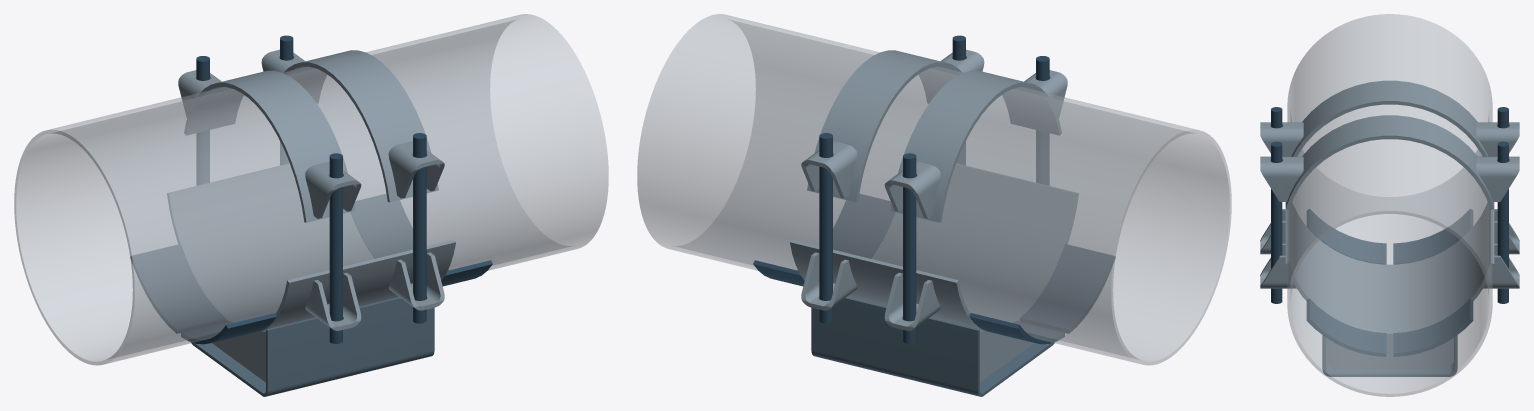
Rendered from TS-671.00.00-03-opora-dn426-H100.glb.
3 views of the same model, side by side, from view 1: azimuth 30°, elevation 25°; view 2: azimuth 150°, elevation 25°; view 3: azimuth 270°, elevation 25° (orthographic). The views are drawn at different scales.
Visible parts, largest first — view 1: truba, podushka_0, skoba_1, bugel_podushka_-1_0, bugel_podushka_1_0, upor_-1_1, upor_1_1, shpilka_1_-1, shpilka_-1_-1, bugel_ushko_1_2, bugel_ushko_-1_2, ushko_6 (+7 smaller); view 2: truba, podushka_0, skoba_1, bugel_podushka_-1_0, bugel_podushka_1_0, upor_-1_-1, upor_1_-1, shpilka_1_1, shpilka_-1_1, bugel_ushko_1_1, bugel_ushko_-1_1, ushko_5 (+7 smaller); view 3: truba, podushka_0, bugel_podushka_1_0, bugel_podushka_-1_0, rebro_4, upor_1_1, upor_1_-1, upor_-1_1, upor_-1_-1, skoba_1, bugel_ushko_1_1, bugel_ushko_1_2 (+10 smaller).
Part boxes in pixels (x1,y1,x2,y2): truba: [14, 14, 608, 365]; podushka_0: [167, 163, 455, 333]; skoba_1: [191, 297, 434, 396]; bugel_podushka_-1_0: [184, 70, 355, 222]; bugel_podushka_1_0: [283, 50, 438, 202]; upor_-1_1: [130, 244, 225, 333]; upor_1_1: [351, 194, 412, 258]; shpilka_1_-1: [413, 133, 426, 323]; shpilka_-1_-1: [329, 153, 342, 343]; bugel_ushko_1_2: [388, 141, 444, 198]; bugel_ushko_-1_2: [305, 161, 361, 218]; ushko_6: [388, 252, 444, 310]; truba: [637, 14, 1231, 365]; podushka_0: [790, 163, 1078, 333]; skoba_1: [811, 297, 1054, 396]; bugel_podushka_-1_0: [890, 70, 1061, 222]; bugel_podushka_1_0: [807, 50, 962, 202]; upor_-1_-1: [1020, 244, 1115, 333]; upor_1_-1: [833, 194, 894, 258]; shpilka_1_1: [819, 133, 832, 323]; shpilka_-1_1: [903, 153, 916, 343]; bugel_ushko_1_1: [801, 141, 857, 198]; bugel_ushko_-1_1: [884, 161, 940, 218]; ushko_5: [801, 252, 857, 310]; truba: [1287, 14, 1492, 396]; podushka_0: [1285, 203, 1494, 337]; bugel_podushka_1_0: [1285, 115, 1494, 209]; bugel_podushka_-1_0: [1291, 80, 1488, 156]; rebro_4: [1326, 337, 1453, 368]; upor_1_1: [1393, 298, 1473, 356]; upor_1_-1: [1306, 298, 1386, 356]; upor_-1_1: [1393, 209, 1472, 264]; upor_-1_-1: [1307, 209, 1386, 264]; skoba_1: [1322, 335, 1457, 376]; bugel_ushko_1_1: [1476, 156, 1519, 201]; bugel_ushko_1_2: [1260, 156, 1303, 201].
Bounding box in the file's own units: 966 × 536 × 538.
